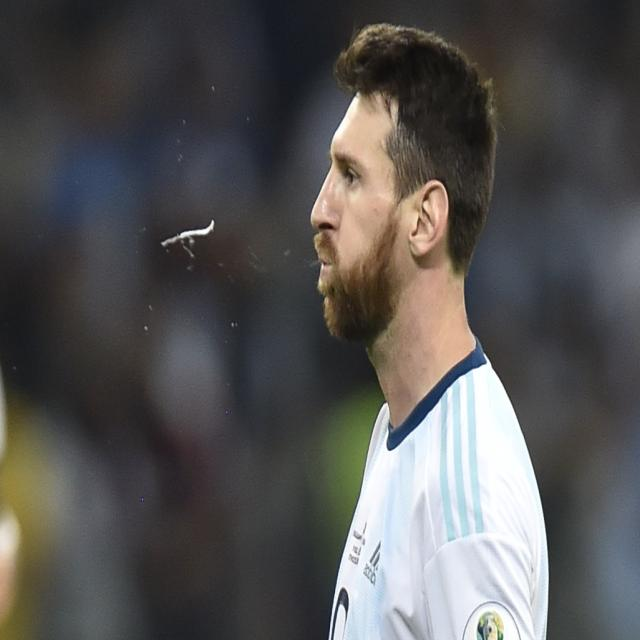Spitting: (244, 22, 498, 417)
